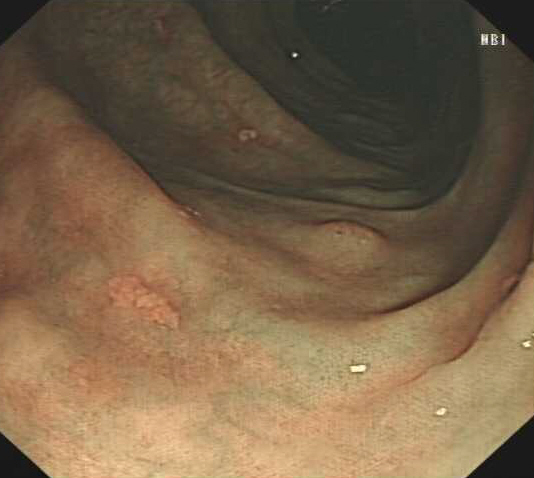adenoma: (304, 218, 388, 255)
